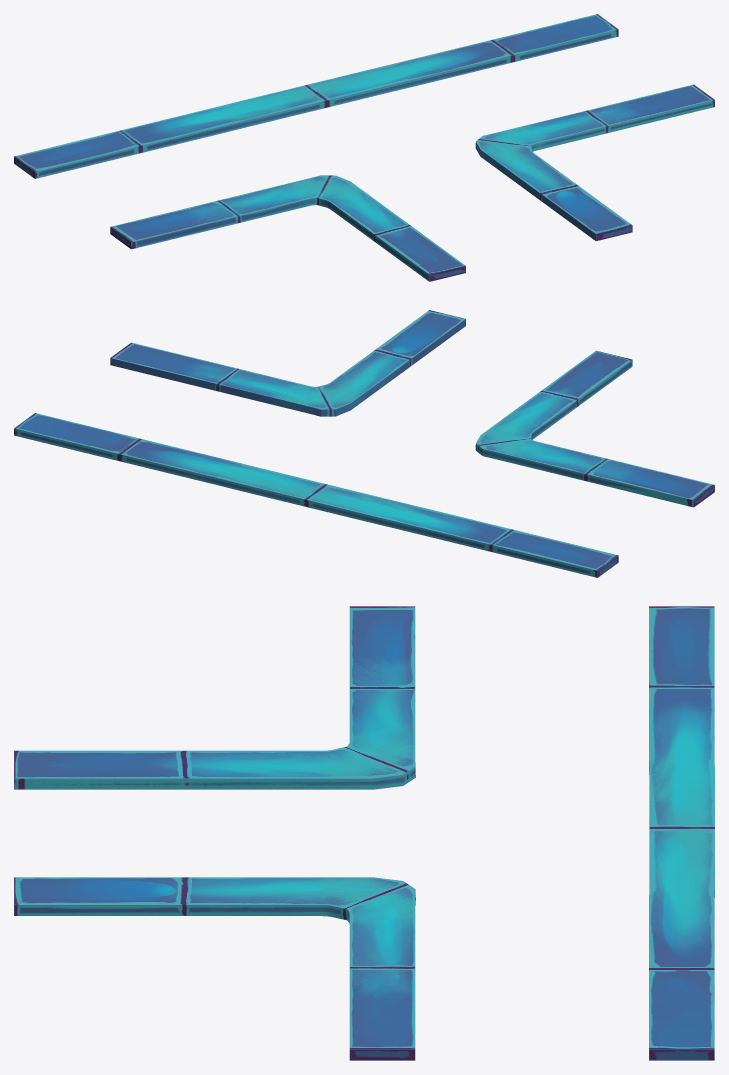
File: SUP_ARCH_sidewalkTJunction.fbx
3 views of the same model, one above another, from view 1: azimuth 30°, elevation 25°; view 2: azimuth 150°, elevation 25°; view 3: azimuth 270°, elevation 25° (orthographic). The views are drawn at different scales.
Visible parts, largest first — view 1: m_superposed_sidewalkTJunction; view 2: m_superposed_sidewalkTJunction; view 3: m_superposed_sidewalkTJunction.
Boxes of the visible parts, x1=… form: m_superposed_sidewalkTJunction: x1=14, y1=14, x2=714, y2=281; m_superposed_sidewalkTJunction: x1=14, y1=310, x2=714, y2=577; m_superposed_sidewalkTJunction: x1=14, y1=606, x2=714, y2=1060.
Bounding box in the file's own units: 3200 × 37.69 × 2139.
Materials: 1 (1 with a texture image).
